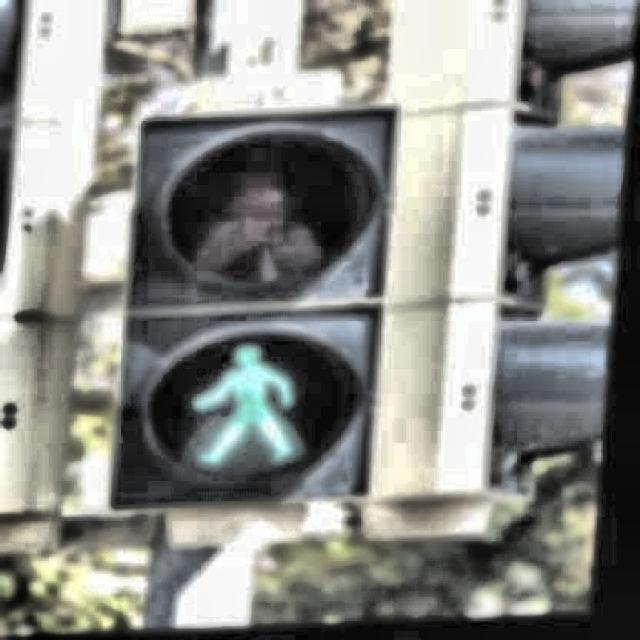semaforo pedestre: (79, 62, 481, 576)
